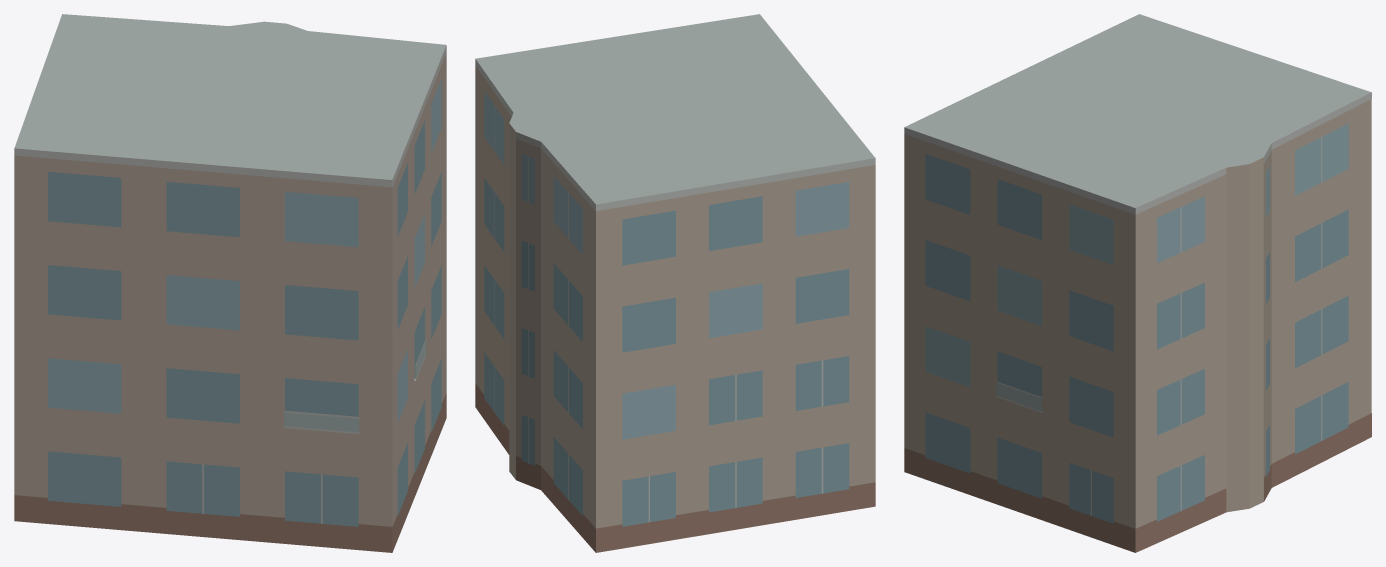
Rendered from survey-upis-32625099.glb.
3 renders of one model, left to right at view 1: azimuth 30°, elevation 25°; view 2: azimuth 150°, elevation 25°; view 3: azimuth 270°, elevation 25°, orthographic. The views are drawn at different scales.
Parts seen in each view (by area): view 1: survey-upis-32625099.tmp; view 2: survey-upis-32625099.tmp; view 3: survey-upis-32625099.tmp.
Part boxes in pixels (left/top/right/bottom): survey-upis-32625099.tmp: left=14, top=14, right=446, bottom=552; survey-upis-32625099.tmp: left=475, top=14, right=875, bottom=552; survey-upis-32625099.tmp: left=904, top=14, right=1371, bottom=552.
Size of the model in its own units: 15.35 by 12.7 by 15.62.
